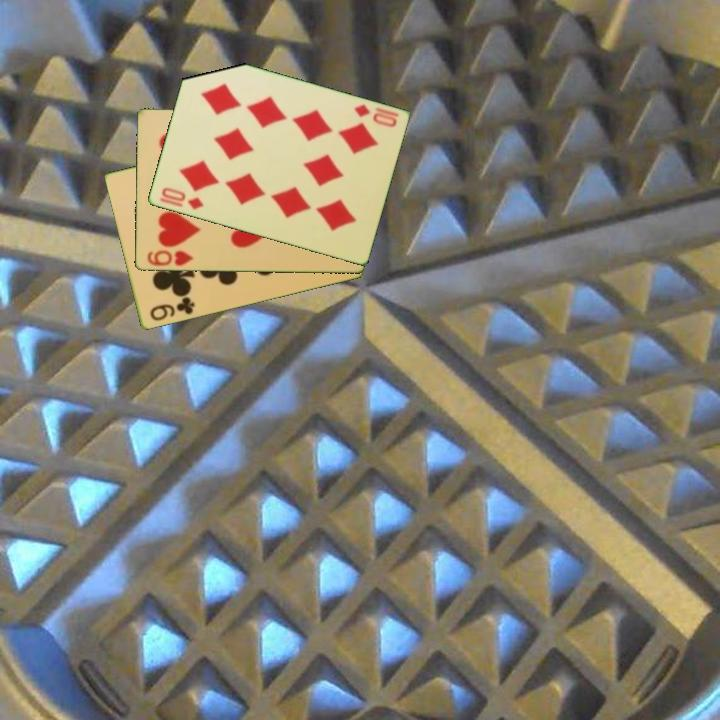10d: (156, 184, 206, 213), (350, 101, 399, 130)
6h: (144, 247, 196, 269)
9c: (146, 293, 197, 324)
